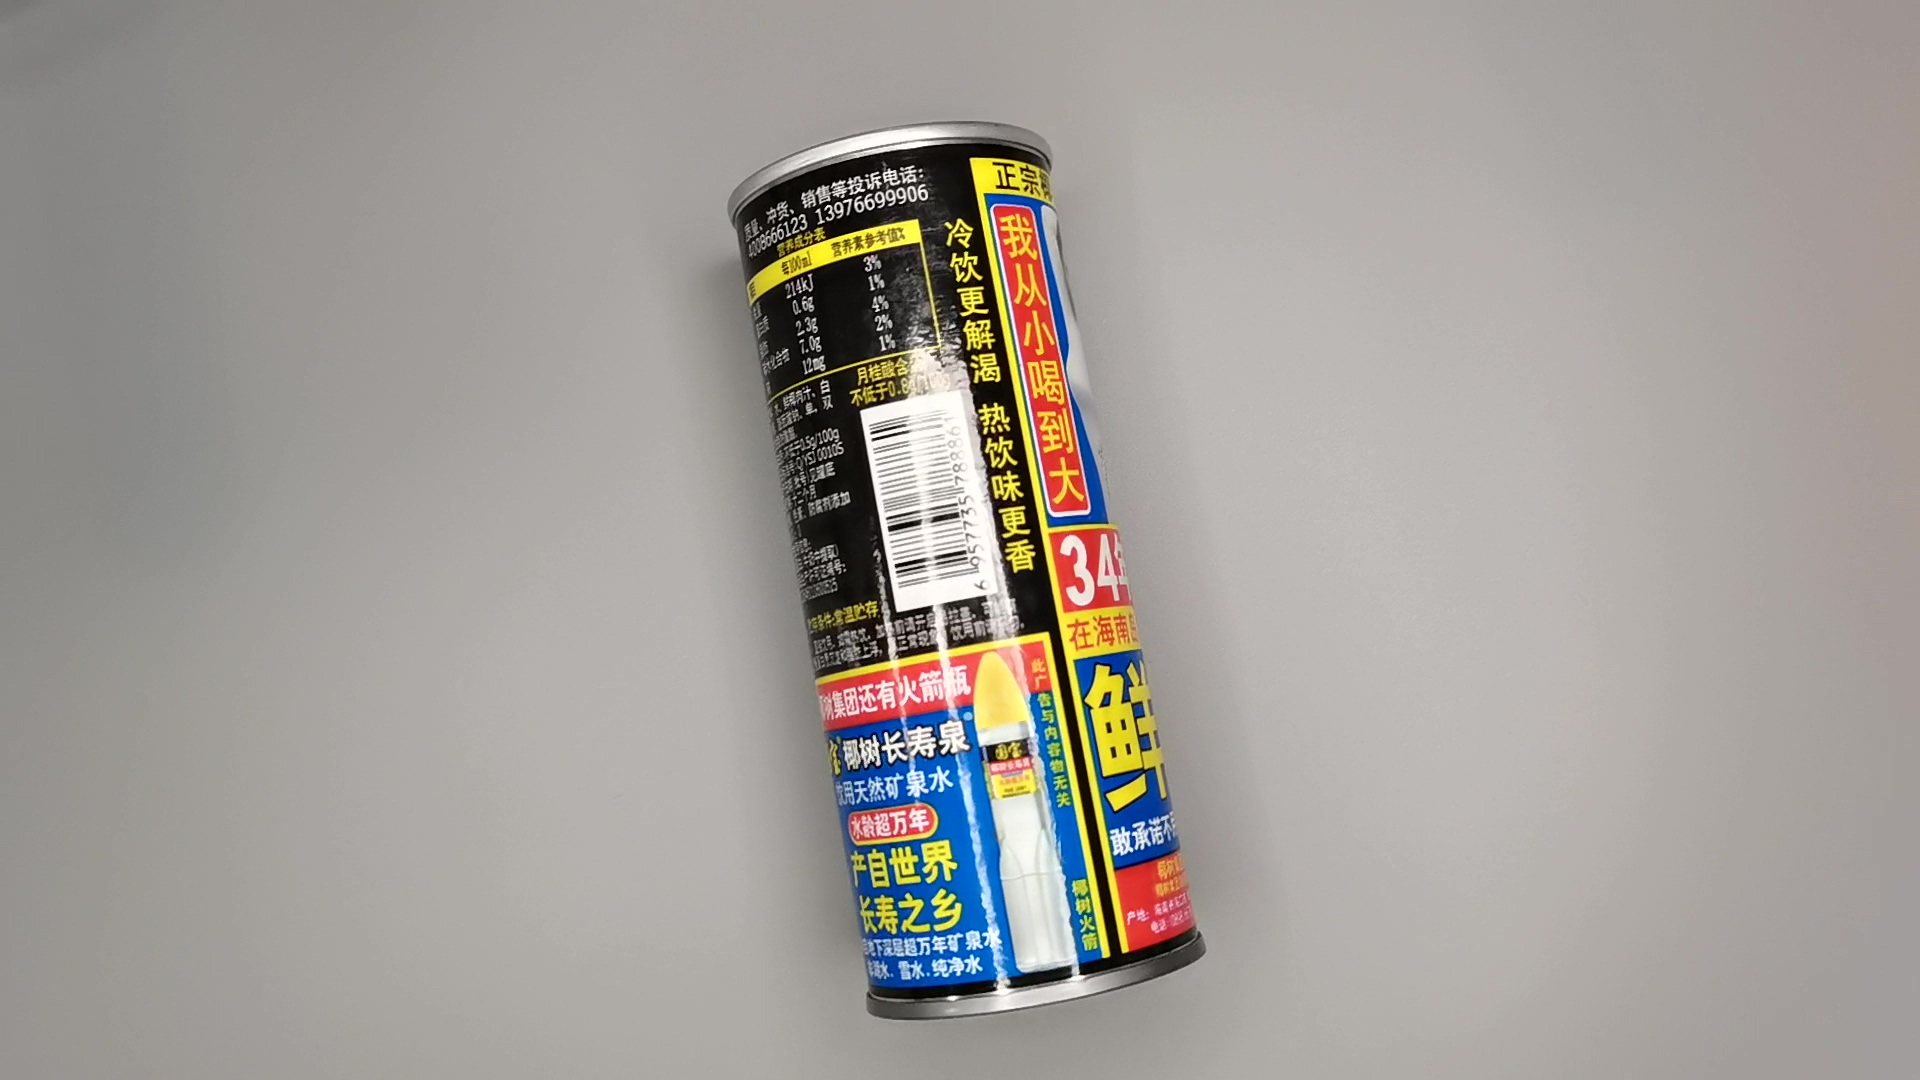can: (719, 112, 1212, 1030)
